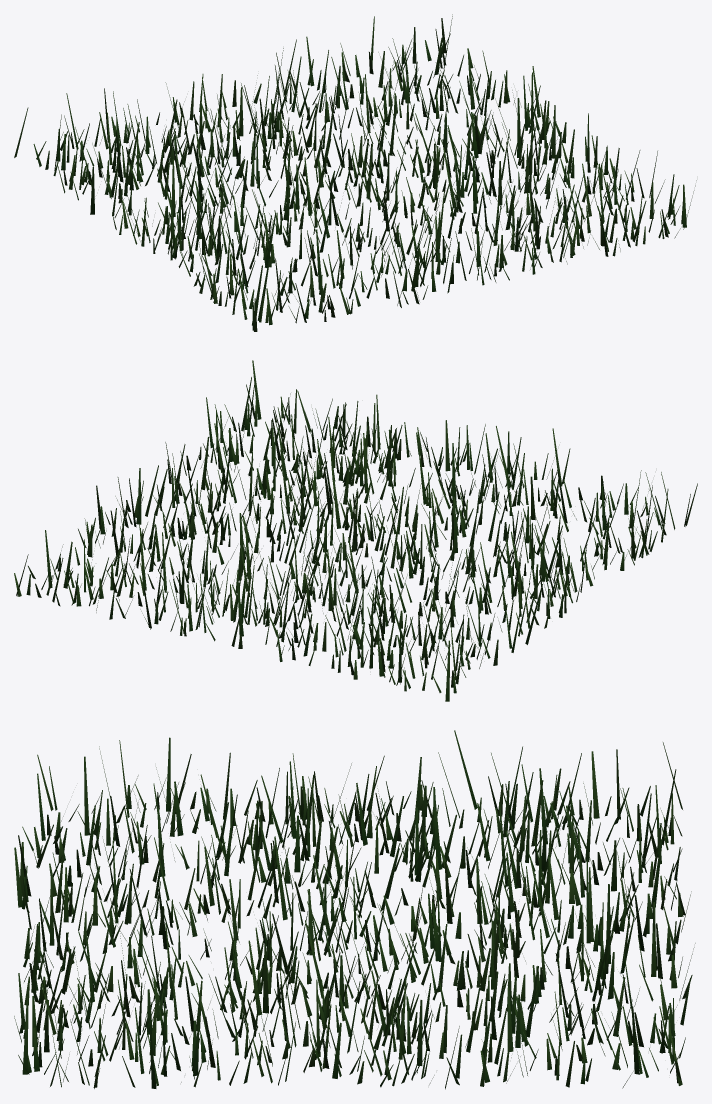
File: Turf_Shade_v2.glb
The picture shows the model from 3 angles, top to bottom: view 1: azimuth 30°, elevation 25°; view 2: azimuth 150°, elevation 25°; view 3: azimuth 270°, elevation 25°; orthographic projection. The views are drawn at different scales.
Visible parts, largest first — view 1: Turf_Shade_v2; view 2: Turf_Shade_v2; view 3: Turf_Shade_v2.
Part boxes in pixels (left/top/right/bottom): Turf_Shade_v2: left=14, top=14, right=696, bottom=331; Turf_Shade_v2: left=14, top=360, right=697, bottom=701; Turf_Shade_v2: left=14, top=730, right=695, bottom=1089.
Size of the model in its own units: 1.5 by 0.18 by 1.48.
